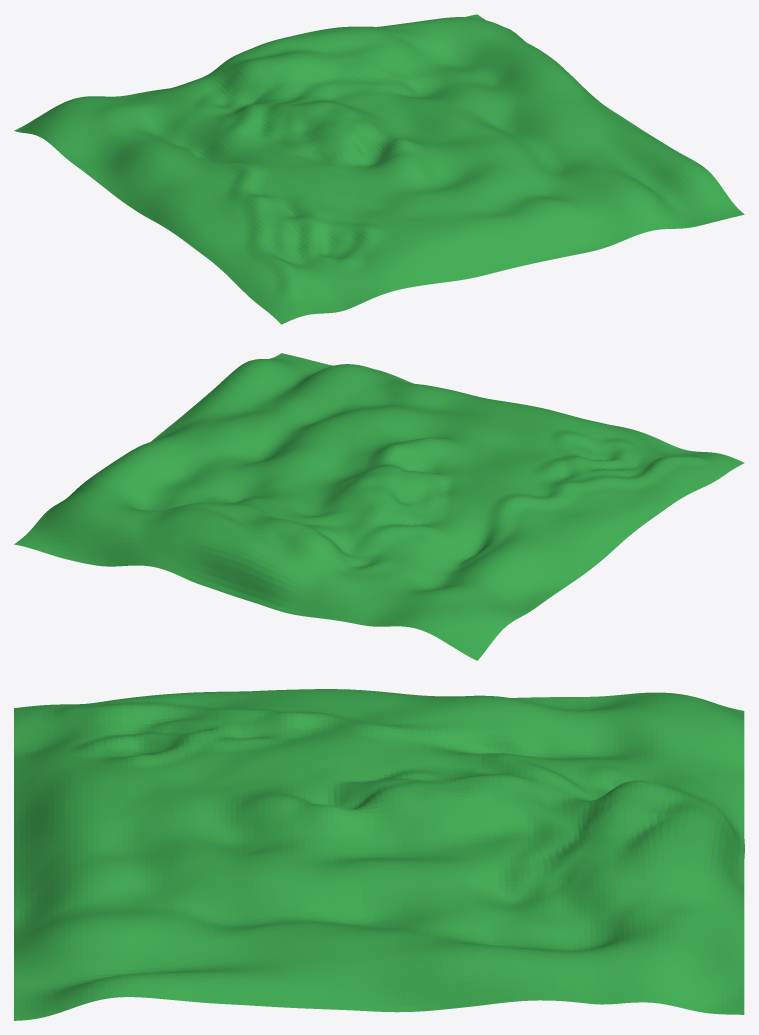
Rendered from terrain.obj.
3 renders of one model, top to bottom at view 1: azimuth 30°, elevation 25°; view 2: azimuth 150°, elevation 25°; view 3: azimuth 270°, elevation 25°, orthographic. The views are drawn at different scales.
Visible parts, largest first — view 1: Plane; view 2: Plane; view 3: Plane.
Boxes of the visible parts, bbox=[...] form: Plane: bbox=[14, 14, 744, 324]; Plane: bbox=[14, 353, 744, 660]; Plane: bbox=[14, 689, 744, 1020].
Bounding box in the file's own units: 128907 × 13158 × 129051.
